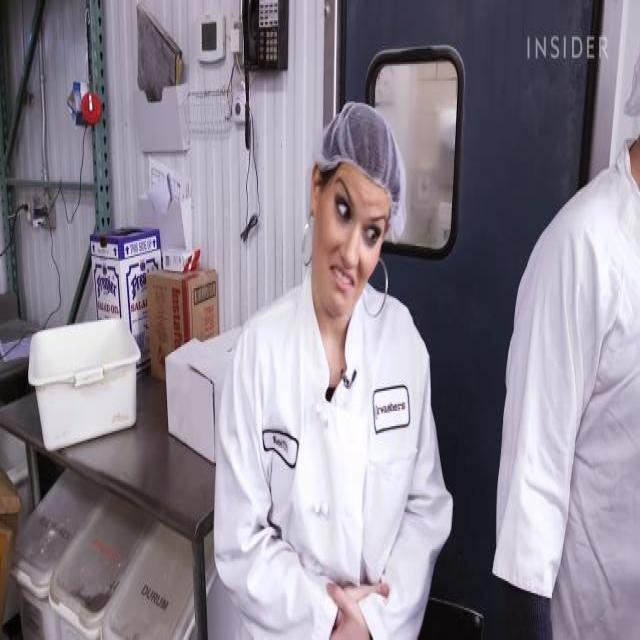bare_hand: (328, 559, 397, 608), (318, 581, 373, 640)
